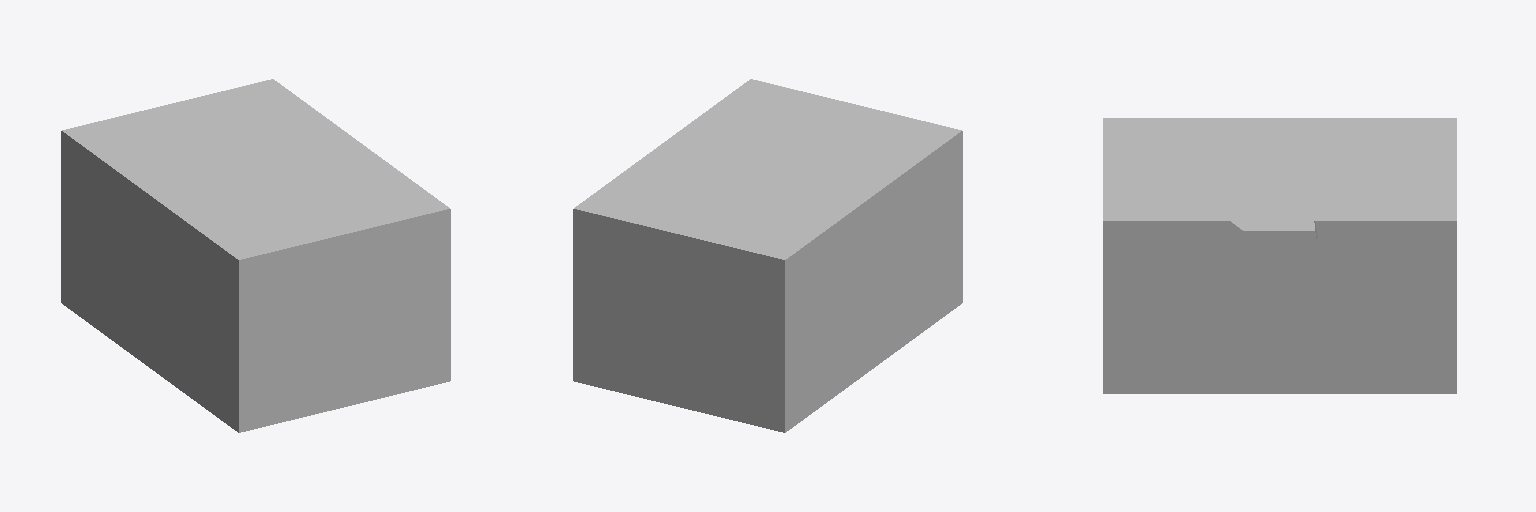
Rendered from block_break3.obj.
3 renders of one model, left to right at view 1: azimuth 30°, elevation 25°; view 2: azimuth 150°, elevation 25°; view 3: azimuth 270°, elevation 25°, orthographic.
Parts seen in each view (by area): view 1: block_break3; view 2: block_break3; view 3: block_break3.
Boxes of the visible parts, <box> form: block_break3: <box>61,79,450,432</box>; block_break3: <box>573,79,962,432</box>; block_break3: <box>1103,118,1456,393</box>.
Bounding box in the file's own units: 0.3 × 0.234 × 0.435.